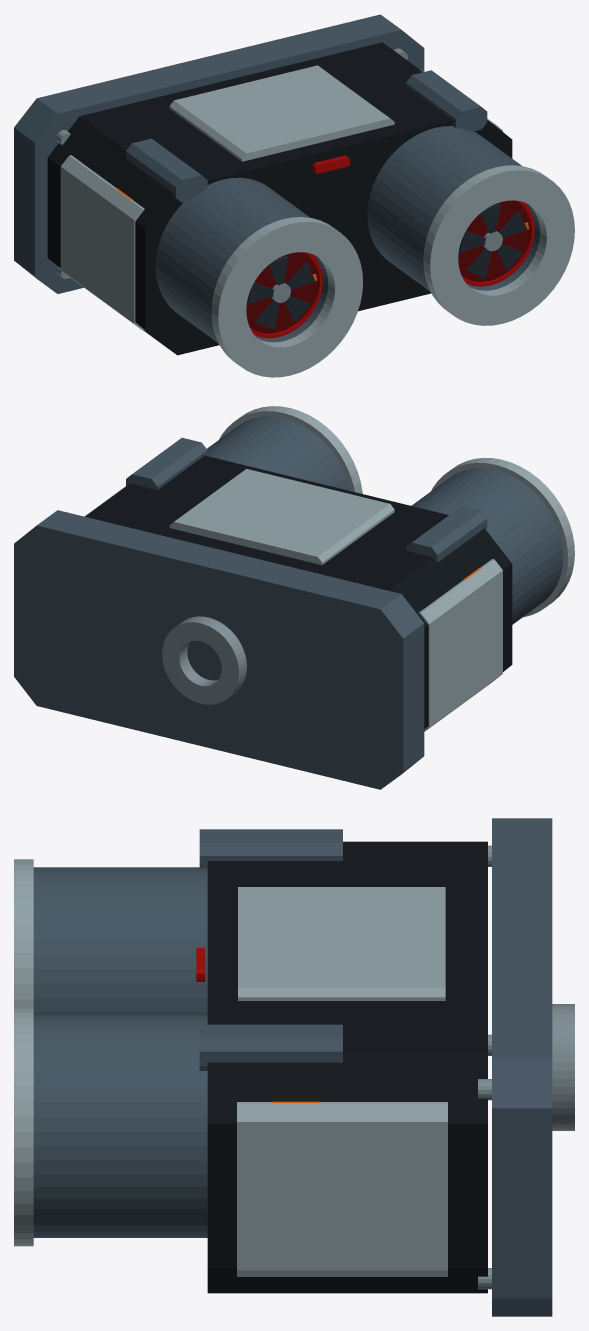
The model's file is M05-003_dual_optical_scanner.obj.
3 renders of one model, top to bottom at view 1: azimuth 30°, elevation 25°; view 2: azimuth 150°, elevation 25°; view 3: azimuth 270°, elevation 25°, orthographic. The views are drawn at different scales.
Parts seen in each view (by area): view 1: Scanner_Core, Rear_Mount_Plate, Front_Ceramic_Bezel_R, Front_Ceramic_Bezel_L, Upper_Ceramic_Spine, Optical_Barrel_R, Optical_Barrel_L, Side_Armor_L, Top_Service_Fin_L, Top_Service_Fin_R, Ruby_Optical_Lens_L, Ruby_Optical_Lens_R (+2 smaller); view 2: Rear_Mount_Plate, Scanner_Core, Upper_Ceramic_Spine, Optical_Barrel_L, Side_Armor_L, Optical_Barrel_R, Rear_Docking_Collar, Front_Ceramic_Bezel_L, Top_Service_Fin_L, Front_Ceramic_Bezel_R, Top_Service_Fin_R; view 3: Scanner_Core, Optical_Barrel_R, Side_Armor_R, Rear_Mount_Plate, Optical_Barrel_L, Upper_Ceramic_Spine, Top_Service_Fin_R, Front_Ceramic_Bezel_R, Top_Service_Fin_L, Front_Ceramic_Bezel_L, Rear_Docking_Collar.
Boxes of the visible parts, x1=… form: Scanner_Core: x1=47, y1=42, x2=512, y2=355; Rear_Mount_Plate: x1=14, y1=14, x2=424, y2=293; Front_Ceramic_Bezel_R: x1=423, y1=165, x2=574, y2=325; Front_Ceramic_Bezel_L: x1=211, y1=217, x2=362, y2=377; Upper_Ceramic_Spine: x1=169, y1=65, x2=394, y2=161; Optical_Barrel_R: x1=367, y1=126, x2=539, y2=291; Optical_Barrel_L: x1=155, y1=177, x2=328, y2=343; Side_Armor_L: x1=60, y1=155, x2=144, y2=330; Top_Service_Fin_L: x1=126, y1=138, x2=207, y2=202; Top_Service_Fin_R: x1=406, y1=70, x2=487, y2=131; Ruby_Optical_Lens_L: x1=246, y1=252, x2=318, y2=333; Ruby_Optical_Lens_R: x1=458, y1=200, x2=529, y2=281; Rear_Mount_Plate: x1=14, y1=510, x2=424, y2=789; Scanner_Core: x1=85, y1=455, x2=512, y2=728; Upper_Ceramic_Spine: x1=169, y1=469, x2=394, y2=564; Optical_Barrel_L: x1=411, y1=468, x2=563, y2=624; Side_Armor_L: x1=419, y1=559, x2=502, y2=731; Optical_Barrel_R: x1=207, y1=416, x2=349, y2=490; Rear_Docking_Collar: x1=162, y1=616, x2=246, y2=704; Front_Ceramic_Bezel_L: x1=431, y1=457, x2=574, y2=617; Top_Service_Fin_L: x1=406, y1=506, x2=487, y2=562; Front_Ceramic_Bezel_R: x1=219, y1=406, x2=362, y2=493; Top_Service_Fin_R: x1=126, y1=437, x2=207, y2=489; Scanner_Core: x1=207, y1=841, x2=487, y2=1293; Optical_Barrel_R: x1=33, y1=1015, x2=207, y2=1237; Side_Armor_R: x1=237, y1=1102, x2=447, y2=1276; Rear_Mount_Plate: x1=492, y1=818, x2=552, y2=1316; Optical_Barrel_L: x1=33, y1=867, x2=207, y2=1015; Upper_Ceramic_Spine: x1=238, y1=887, x2=445, y2=1000; Top_Service_Fin_R: x1=199, y1=1024, x2=342, y2=1070; Front_Ceramic_Bezel_R: x1=14, y1=1007, x2=33, y2=1246; Top_Service_Fin_L: x1=199, y1=829, x2=342, y2=868; Front_Ceramic_Bezel_L: x1=14, y1=859, x2=33, y2=1006; Rear_Docking_Collar: x1=552, y1=1004, x2=574, y2=1130.
Bounding box in the file's own units: 0.79 × 0.356 × 0.689.
